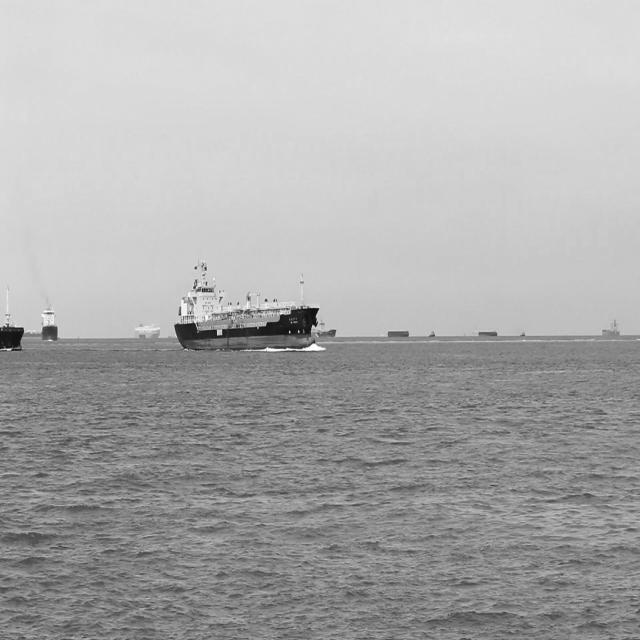ship: (173, 255, 322, 353), (0, 280, 25, 352), (42, 300, 59, 341), (315, 317, 336, 342), (133, 322, 160, 341), (601, 316, 622, 340), (24, 327, 42, 340)
